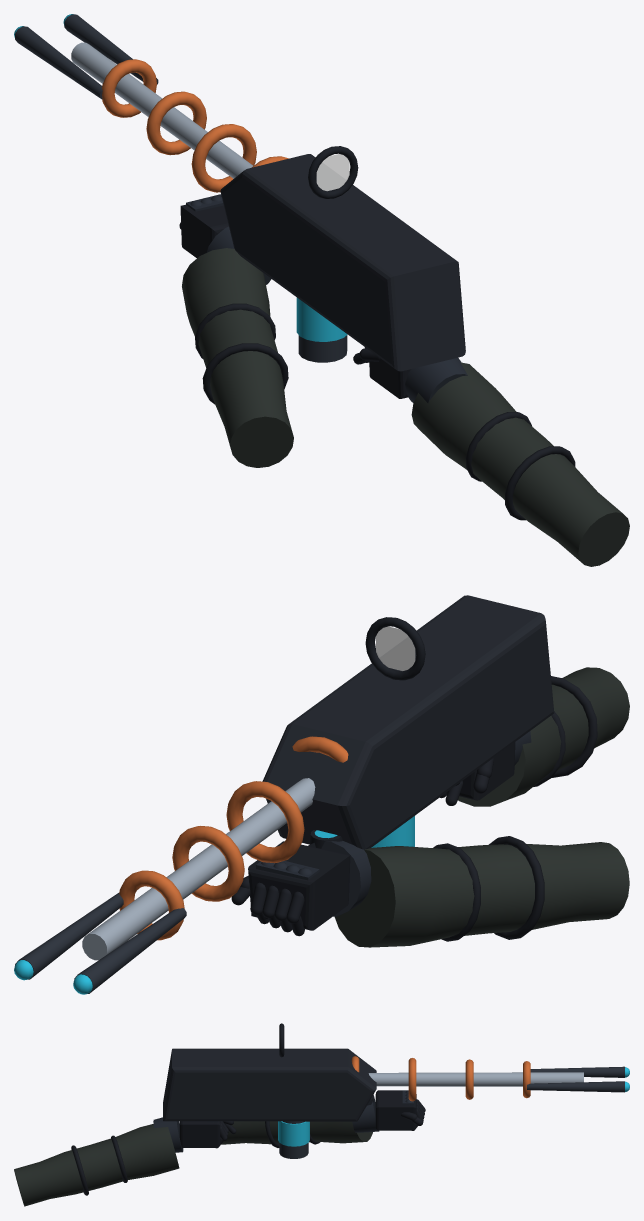
File: zeusmk7_tesla.glb
3 views of the same model, one above another, from view 1: azimuth 30°, elevation 25°; view 2: azimuth 150°, elevation 25°; view 3: azimuth 270°, elevation 25° (orthographic). The views are drawn at different scales.
Parts seen in each view (by area): view 1: object 1, RightHand, LeftHand, object 2, Magazine, object 4, object 5, object 7, object 6, object 9, object 12, HoloReticle; view 2: object 1, LeftHand, RightHand, object 2, object 4, object 5, object 7, object 9, object 12, object 6, HoloReticle, object 3 (+1 smaller); view 3: object 1, RightHand, LeftHand, object 2, Magazine, object 9, object 7, object 4, object 5.
Part boxes in pixels (<box>): object 1: <box>220,154,465,371</box>; RightHand: <box>353,347,629,566</box>; LeftHand: <box>179,194,293,467</box>; object 2: <box>71,42,253,178</box>; Magazine: <box>296,297,347,362</box>; object 4: <box>191,124,256,192</box>; object 5: <box>146,91,206,155</box>; object 7: <box>15,26,102,99</box>; object 6: <box>102,59,156,117</box>; object 9: <box>64,14,158,84</box>; object 12: <box>308,146,358,198</box>; HoloReticle: <box>316,154,349,191</box>; object 1: <box>262,595,554,849</box>; LeftHand: <box>231,830,629,947</box>; RightHand: <box>440,667,629,806</box>; object 2: <box>82,778,315,960</box>; object 4: <box>226,781,304,863</box>; object 5: <box>172,826,244,901</box>; object 7: <box>74,908,186,993</box>; object 9: <box>15,893,123,979</box>; object 12: <box>365,617,425,680</box>; object 6: <box>119,870,184,940</box>; HoloReticle: <box>376,626,415,670</box>; object 3: <box>292,736,348,762</box>; object 1: <box>163,1048,376,1121</box>; RightHand: <box>14,1117,236,1206</box>; LeftHand: <box>221,1090,425,1147</box>; object 2: <box>368,1072,583,1086</box>; Magazine: <box>278,1121,309,1158</box>; object 9: <box>527,1081,624,1092</box>; object 7: <box>530,1066,624,1077</box>; object 4: <box>408,1058,416,1101</box>; object 5: <box>465,1059,473,1099</box>.
Size of the model in its own units: 0.3883 by 0.4452 by 1.51.
